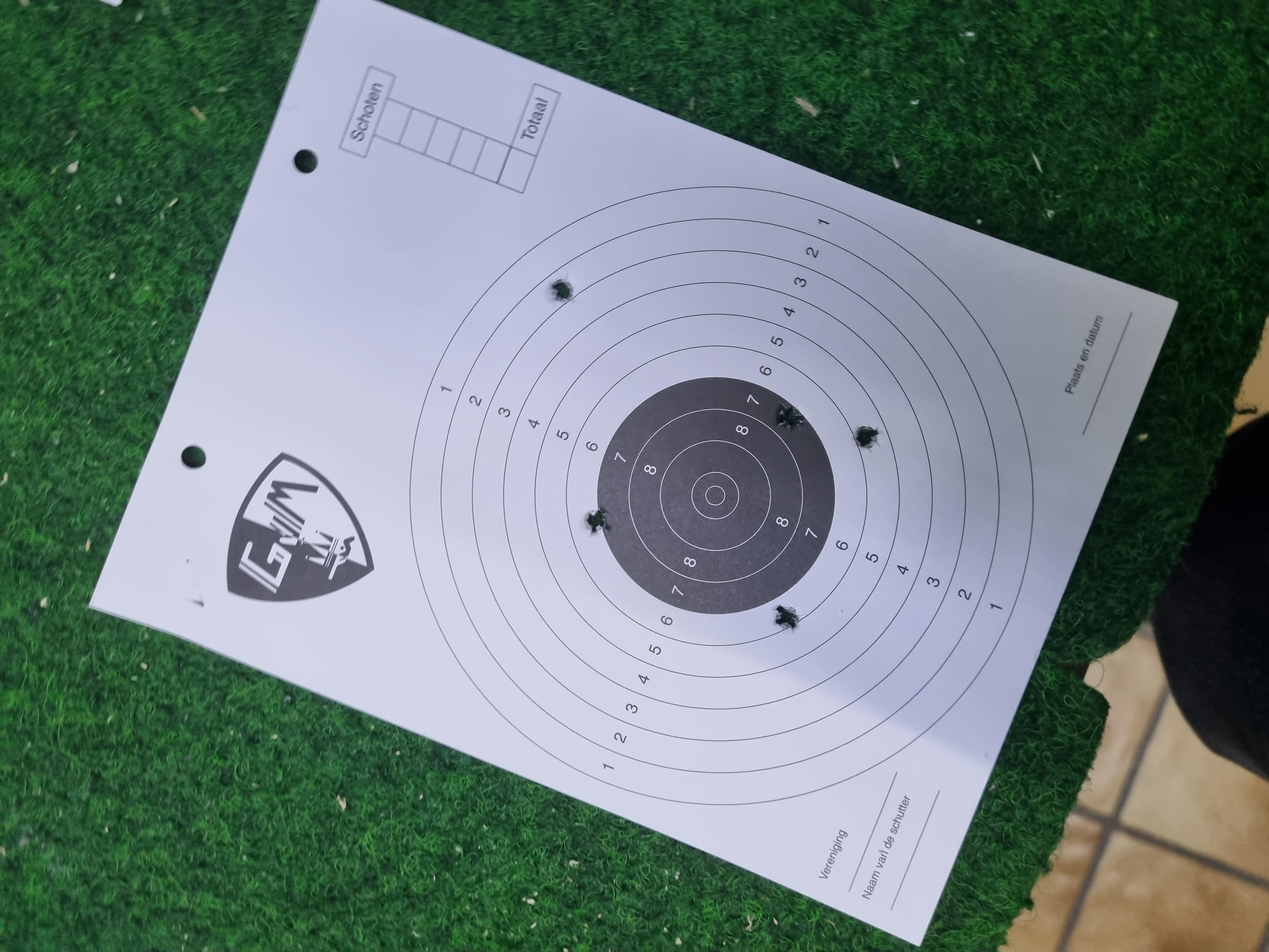hole: (697, 582, 732, 604), (555, 438, 593, 456), (428, 581, 463, 600), (670, 640, 705, 658), (866, 412, 898, 431)
